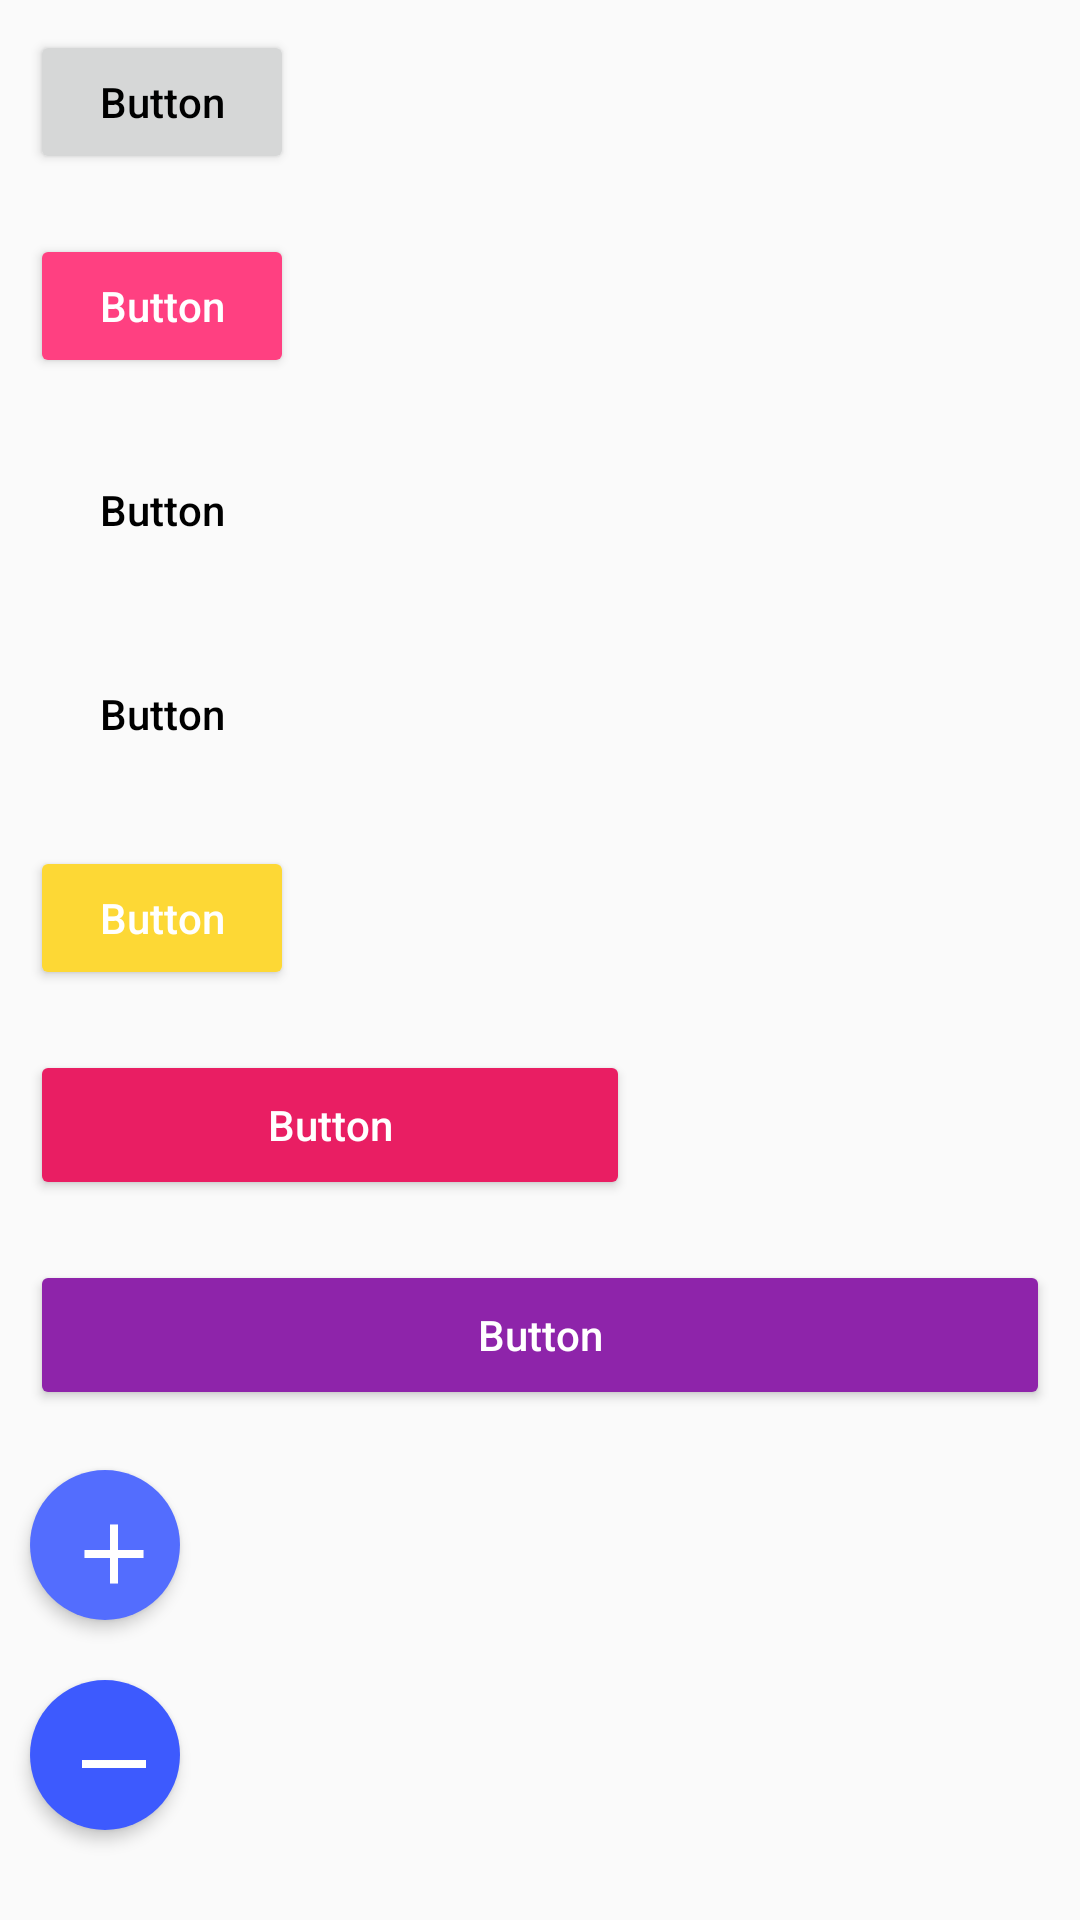

Icons on this 1080w x 1920h Android screen, each with its box as (x1, y1, x2, y2):
add: (30, 1470, 180, 1620)
